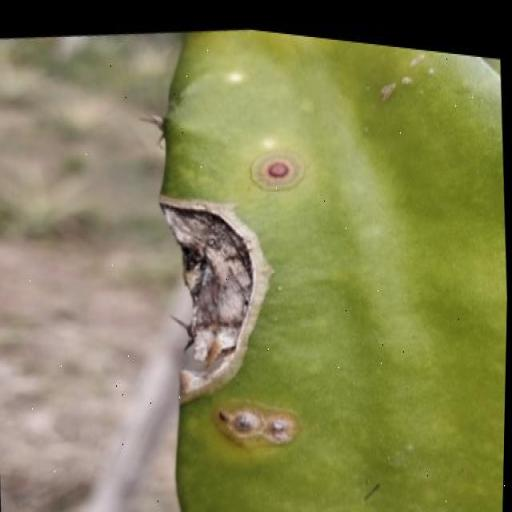stemcanker: (140, 442, 176, 477), (144, 174, 166, 228)
